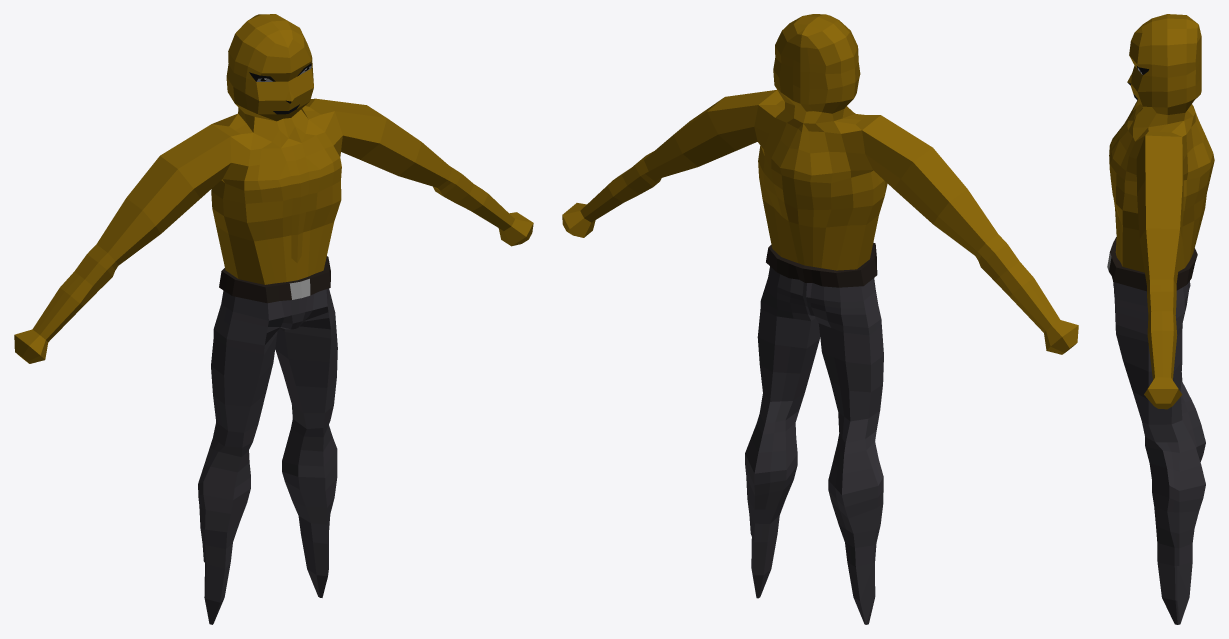
The model's file is PotatoDonoShirtless.fbx.
3 views of the same model, side by side, from view 1: azimuth 30°, elevation 25°; view 2: azimuth 150°, elevation 25°; view 3: azimuth 270°, elevation 25° (orthographic). The views are drawn at different scales.
Visible parts, largest first — view 1: Cylinder; view 2: Cylinder; view 3: Cylinder.
Boxes of the visible parts, x1,y1,x2,y2 form: Cylinder: [14, 14, 533, 624]; Cylinder: [562, 14, 1078, 624]; Cylinder: [1107, 14, 1214, 624].
Bounding box in the file's own units: 617 × 685 × 115.
